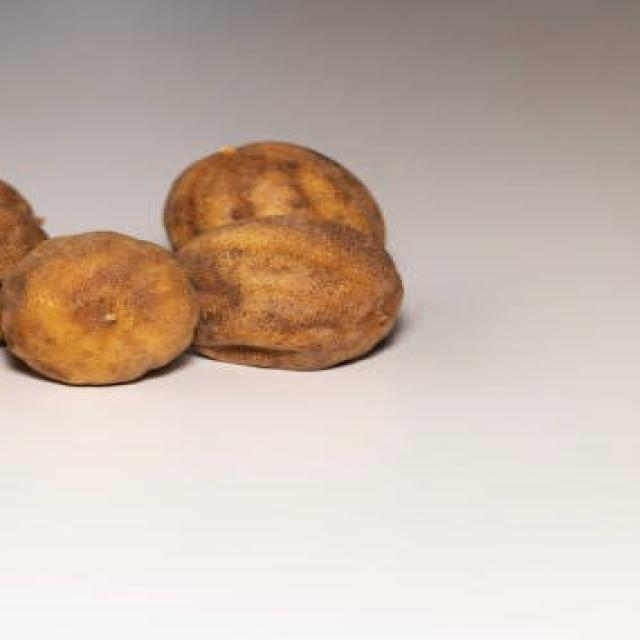overripe: (172, 207, 407, 374), (0, 228, 205, 391), (157, 135, 389, 228)
